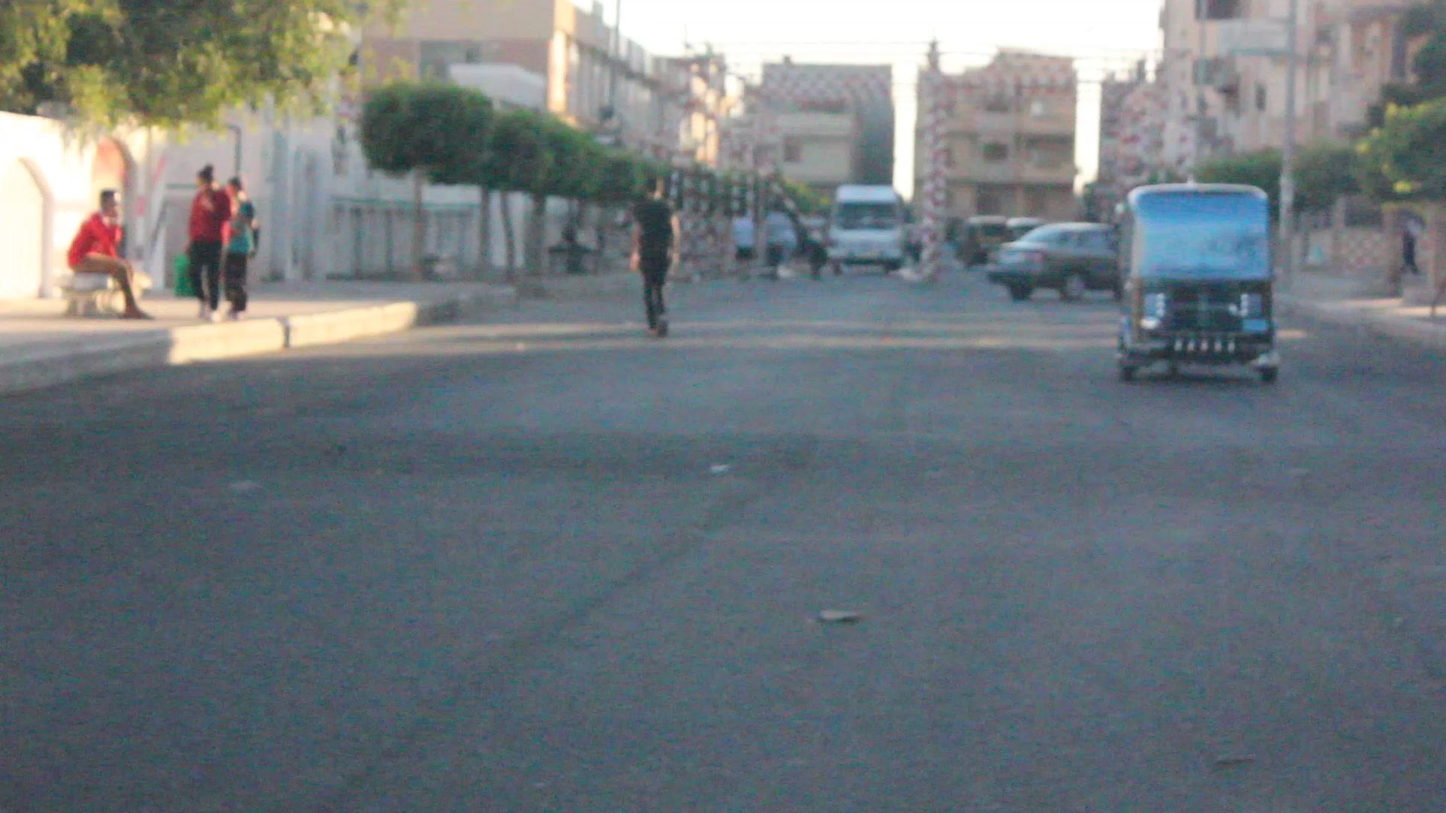Bump: (0, 406, 1445, 501)
